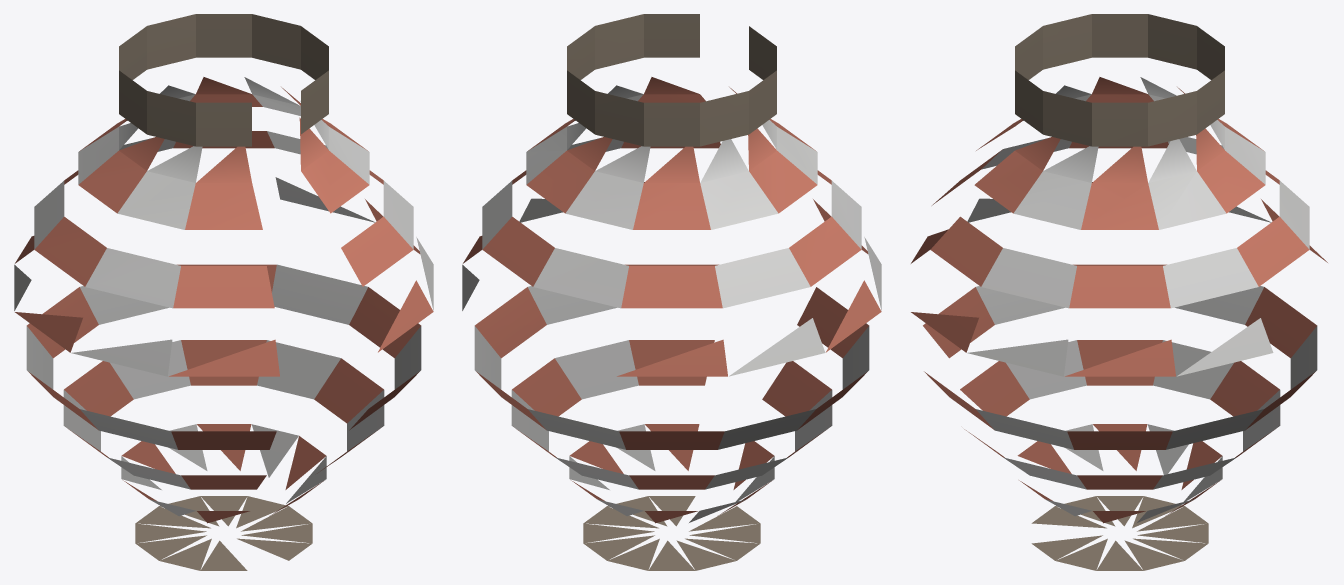
File: lantern.lod.glb
3 views of the same model, side by side, from view 1: azimuth 30°, elevation 25°; view 2: azimuth 150°, elevation 25°; view 3: azimuth 270°, elevation 25° (orthographic).
Visible parts, largest first — view 1: lantern; view 2: lantern; view 3: lantern.
Boxes of the visible parts, x1,y1,x2,y2 form: lantern: (14, 14, 433, 570); lantern: (462, 14, 881, 570); lantern: (911, 14, 1327, 570).
Size of the model in its own units: 0.3471 by 0.4339 by 0.3471.
